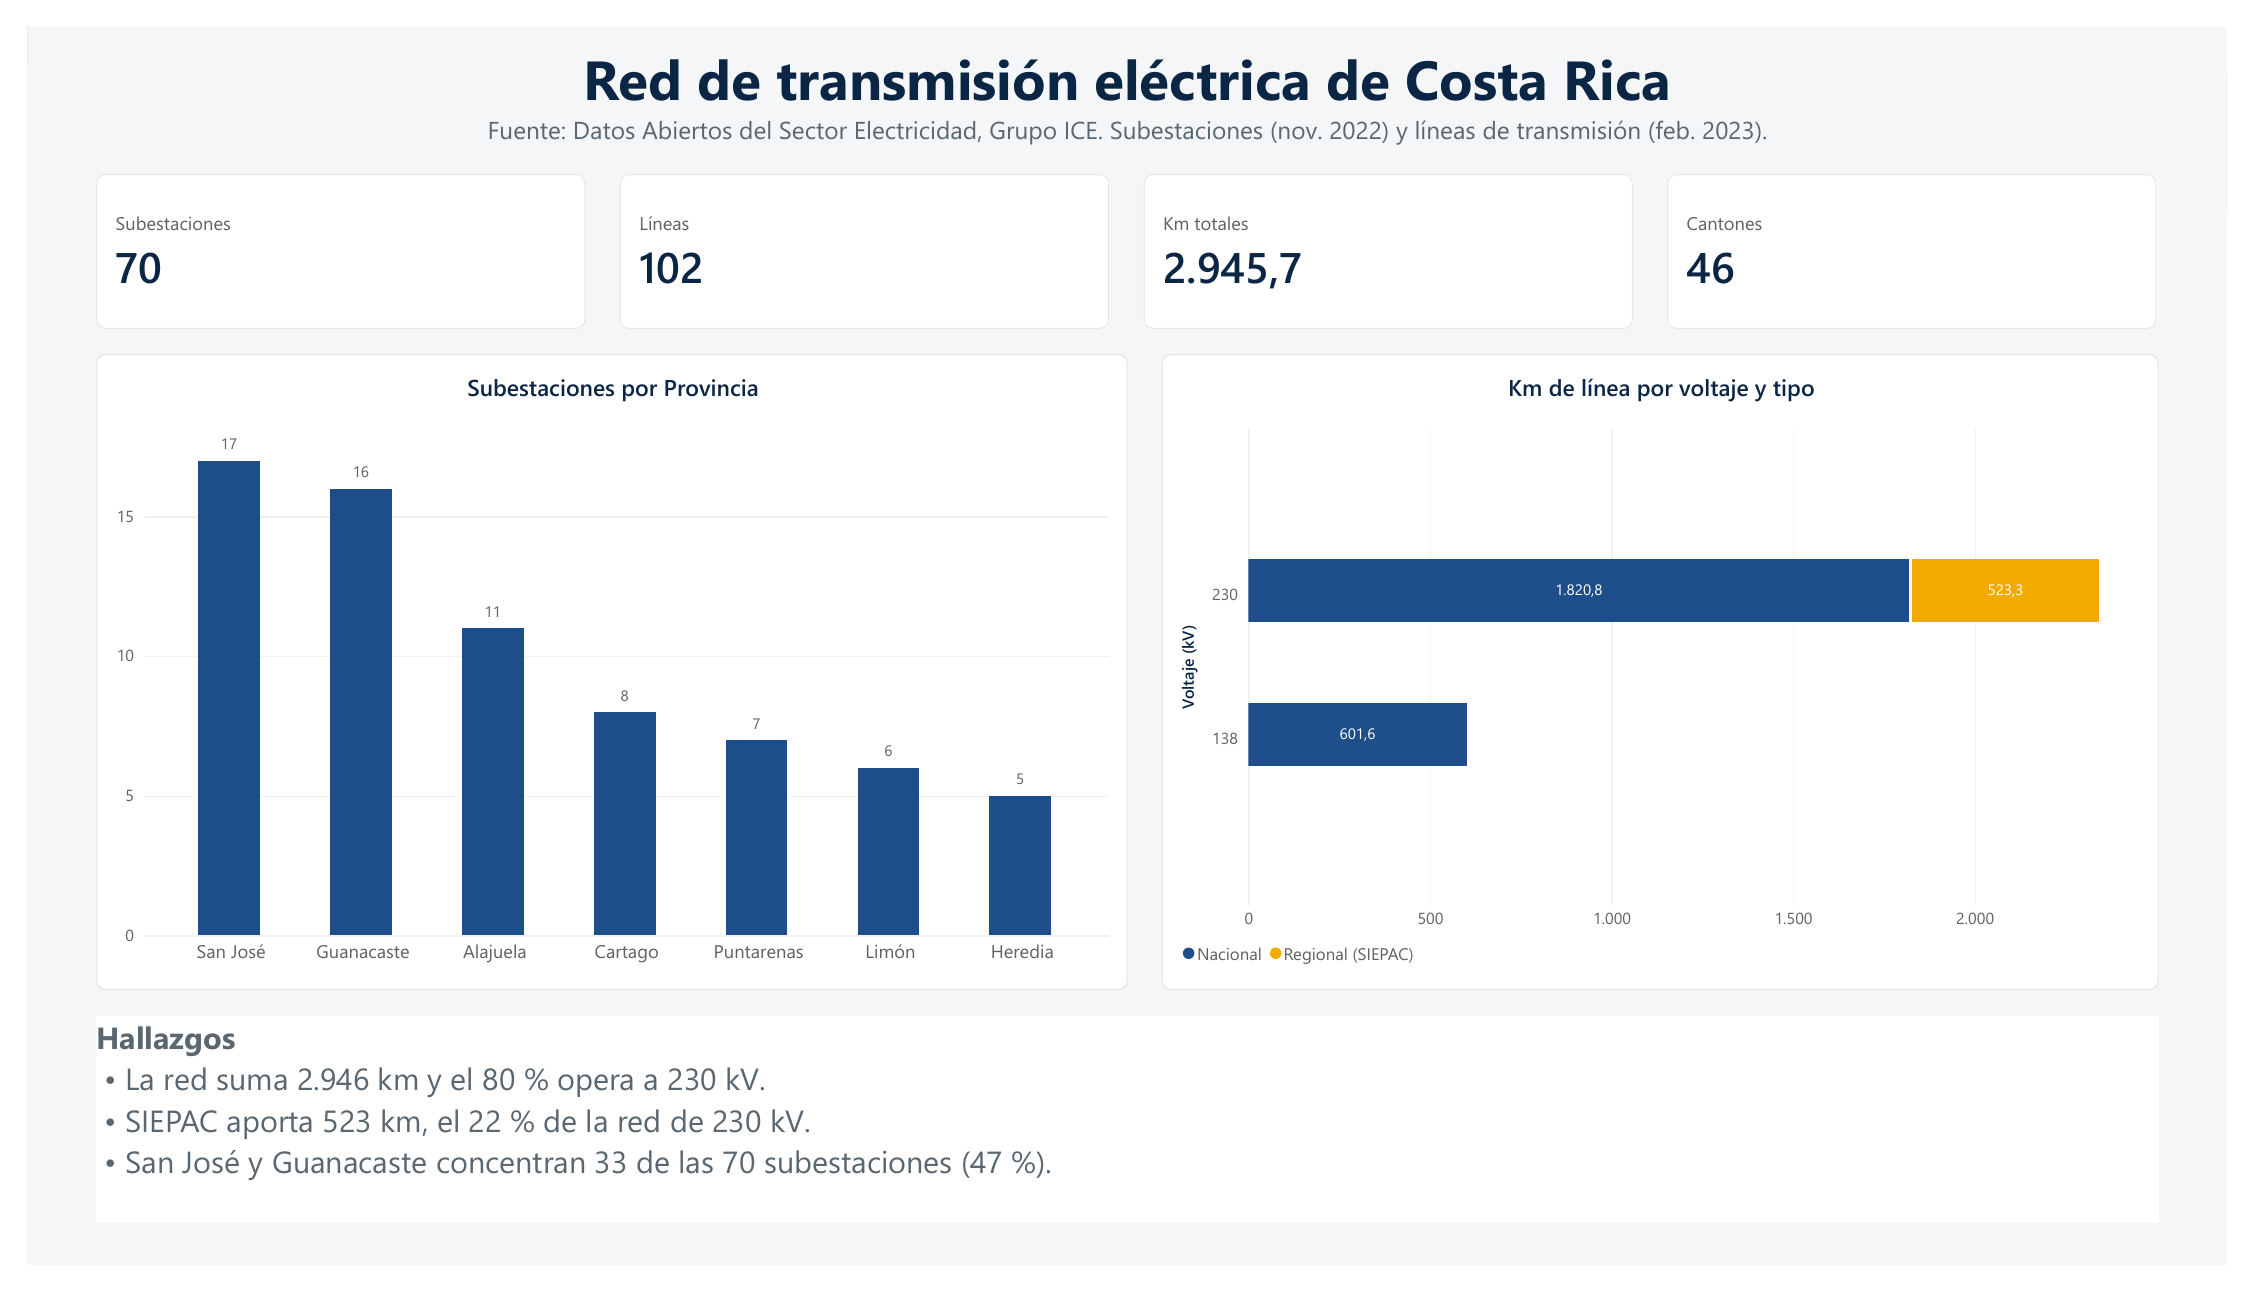

What the dashboard file says about the page in this screenshot:
{"tool":"powerbi","page":{"name":"Resumen","canvas":[1920,1080],"ordinal":0},"visuals":[{"type":"cardVisual","fields":{"Data":["_Medidas.Cantones"]},"box":[1431,128,427,135],"z":0},{"type":"cardVisual","fields":{"Data":["_Medidas.Km totales"]},"box":[974,128,427,135],"z":1000},{"type":"cardVisual","fields":{"Data":["_Medidas.Líneas"]},"box":[517,128,427,135],"z":2000},{"type":"cardVisual","fields":{"Data":["_Medidas.Subestaciones"]},"box":[60,128,427,135],"z":3000},{"type":"columnChart","title":"Subestaciones por Provincia","fields":{"Category":["dim_subestaciones.provincia"],"Y":["_Medidas.Subestaciones"]},"box":[60,285,900,555],"z":4000},{"type":"barChart","title":"Km de línea por voltaje y tipo","fields":{"Category":["fact_lineas.voltaje_kv"],"Series":["fact_lineas.tipo"],"Y":["_Medidas.Km totales"]},"box":[990,285,870,555],"z":5000},{"type":"textbox","box":[60,12,1800,64],"z":6000},{"type":"textbox","box":[60,75,1800,36],"z":7000},{"type":"textbox","box":[60,863,1800,180],"z":8000}]}

Visuals, with their boxes in screenshot pixels (x1, y1, x2, y2), scaled from the page's 1920x1080 canvas onto the 2255x1293 screenshot:
cardVisual - _Medidas.Cantones: box(1681, 153, 2182, 315)
cardVisual - _Medidas.Km totales: box(1144, 153, 1645, 315)
cardVisual - _Medidas.Líneas: box(607, 153, 1109, 315)
cardVisual - _Medidas.Subestaciones: box(70, 153, 572, 315)
"Subestaciones por Provincia" columnChart: box(70, 341, 1128, 1006)
"Km de línea por voltaje y tipo" barChart: box(1163, 341, 2185, 1006)
textbox: box(70, 14, 2185, 91)
textbox: box(70, 90, 2185, 133)
textbox: box(70, 1033, 2185, 1249)
